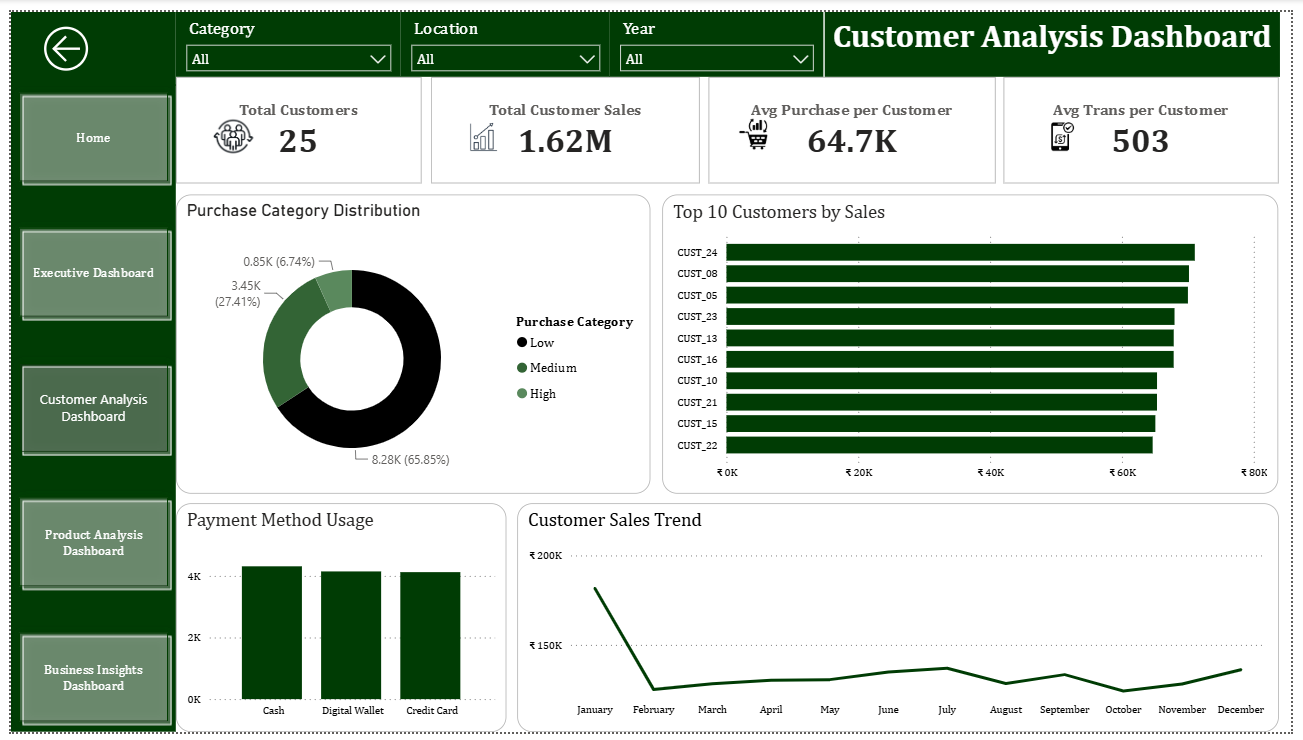

Layout of this report page (visuals, bound fields, positions):
{"tool":"powerbi","page":{"name":"Customer Analysis Dashboard","canvas":[1280,720],"ordinal":2},"visuals":[{"type":"textbox","box":[813.2,0,454.9,64.8],"z":0},{"type":"cardVisual","fields":{"Data":["Dim_Customer.Total Customers"]},"box":[165.1,64.8,245.8,106.4],"z":2000},{"type":"cardVisual","fields":{"Data":["Dim_Customer.Total Customer Sales"]},"box":[419.4,64.8,269,106.4],"z":3000},{"type":"cardVisual","fields":{"Data":["Dim_Customer.Average Purchase per Customer"]},"box":[697,64.8,287.4,106.4],"z":4000},{"type":"cardVisual","fields":{"Data":["Dim_Customer.Average Transactions per Customer"]},"box":[992.9,64.8,275.1,106.4],"z":5000},{"type":"slicer","fields":{"Values":["Retail_Sales.Transaction Date.Variation.Date Hierarchy.Year"]},"box":[599.2,0,214,64.8],"z":6000},{"type":"slicer","fields":{"Values":["Retail_Sales.Location"]},"box":[390.1,0,209.1,64.8],"z":7000},{"type":"slicer","fields":{"Values":["Retail_Sales.Category"]},"box":[165.1,0,225,64.8],"z":8000},{"type":"clusteredBarChart","title":"Top 10 Customers by Sales","fields":{"Category":["Dim_Customer.Customer ID"],"Y":["Dim_Customer.Total Customer Sales"]},"box":[651.8,182.2,616.3,299.6],"z":9000},{"type":"donutChart","title":"Purchase Category Distribution","fields":{"Category":["Retail_Sales.Purchase Category"],"Y":["CountNonNull(Retail_Sales.Transaction ID)"]},"box":[165.1,182.2,474.5,299.6],"z":10000},{"type":"clusteredColumnChart","title":"Payment Method Usage","fields":{"Category":["Retail_Sales.Payment Method"],"Y":["CountNonNull(Retail_Sales.Transaction ID)"]},"box":[165.1,491.6,330.2,228.7],"z":11000},{"type":"lineChart","title":"Customer Sales Trend","fields":{"Category":["Retail_Sales.Transaction Date.Variation.Date Hierarchy.Month"],"Y":["Dim_Customer.Total Customer Sales"]},"box":[506.3,491.6,761.8,228.7],"z":12000},{"type":"image","box":[715.4,102.7,55,36.7],"z":13000},{"type":"image","box":[1018.6,108.8,63.6,31.8],"z":14000},{"type":"image","box":[200.5,102.7,42.8,42.8],"z":15000},{"type":"image","box":[448.8,108.8,46.5,31.8],"z":16000},{"type":"pageNavigator","box":[0,73.1,165.1,646.9],"z":17000},{"type":"actionButton","box":[0,0,165.1,73.4],"z":18000}]}

Visuals, with their boxes in screenshot pixels (x1, y1, x2, y2), scaled from the page's 1280x720 canvas onto the 1303x740 screenshot:
textbox: [x1=828, y1=0, x2=1291, y2=67]
cardVisual - Dim_Customer.Total Customers: [x1=168, y1=67, x2=418, y2=176]
cardVisual - Dim_Customer.Total Customer Sales: [x1=427, y1=67, x2=701, y2=176]
cardVisual - Dim_Customer.Average Purchase per Customer: [x1=710, y1=67, x2=1002, y2=176]
cardVisual - Dim_Customer.Average Transactions per Customer: [x1=1011, y1=67, x2=1291, y2=176]
slicer - Retail_Sales.Transaction Date.Variation.Date Hierarchy.Year: [x1=610, y1=0, x2=828, y2=67]
slicer - Retail_Sales.Location: [x1=397, y1=0, x2=610, y2=67]
slicer - Retail_Sales.Category: [x1=168, y1=0, x2=397, y2=67]
"Top 10 Customers by Sales" clusteredBarChart: [x1=664, y1=187, x2=1291, y2=495]
"Purchase Category Distribution" donutChart: [x1=168, y1=187, x2=651, y2=495]
"Payment Method Usage" clusteredColumnChart: [x1=168, y1=505, x2=504, y2=739]
"Customer Sales Trend" lineChart: [x1=515, y1=505, x2=1291, y2=739]
image: [x1=728, y1=106, x2=784, y2=143]
image: [x1=1037, y1=112, x2=1102, y2=145]
image: [x1=204, y1=106, x2=248, y2=150]
image: [x1=457, y1=112, x2=504, y2=145]
pageNavigator: [x1=0, y1=75, x2=168, y2=739]
actionButton: [x1=0, y1=0, x2=168, y2=75]
